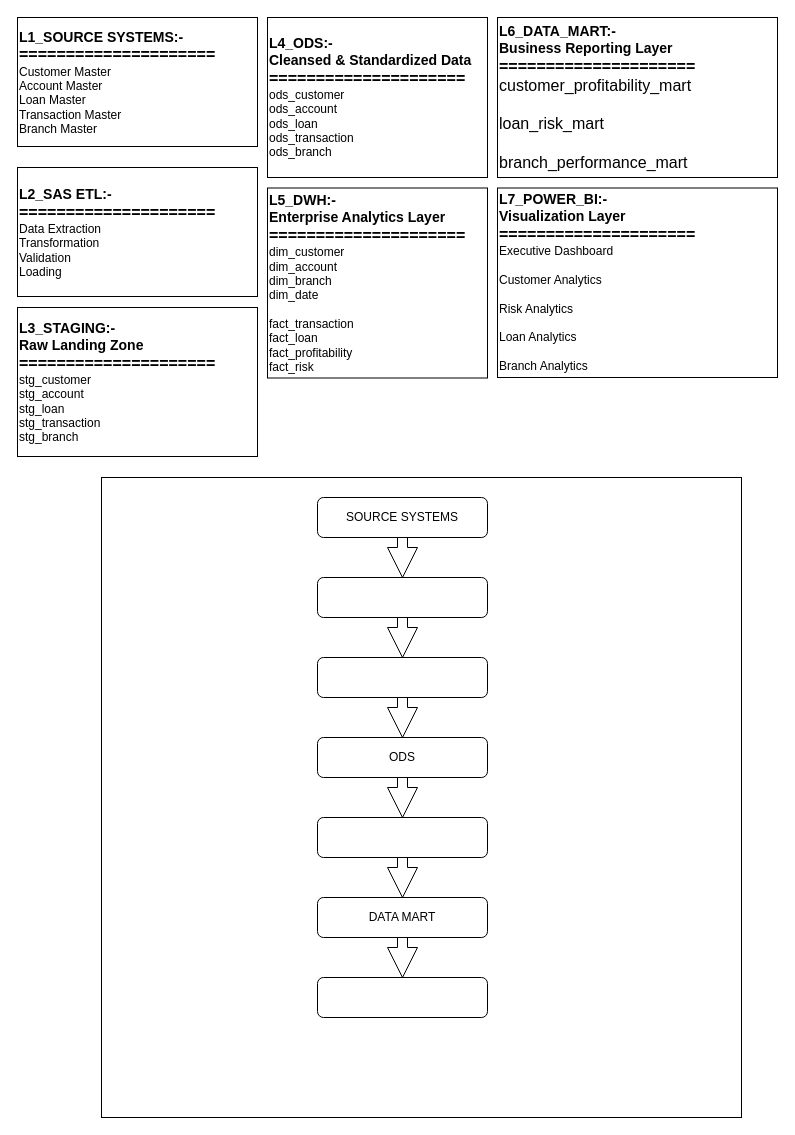
Image size: 795x1135. Some labels were removed from this diagram. The centre of each missing label's shape, as x and y in pixels:
"DWH" belongs at (x=402, y=837).
"POWER BI" belongs at (x=402, y=997).
"SAS ETL" belongs at (x=402, y=597).
"STAGING" belongs at (x=402, y=677).
